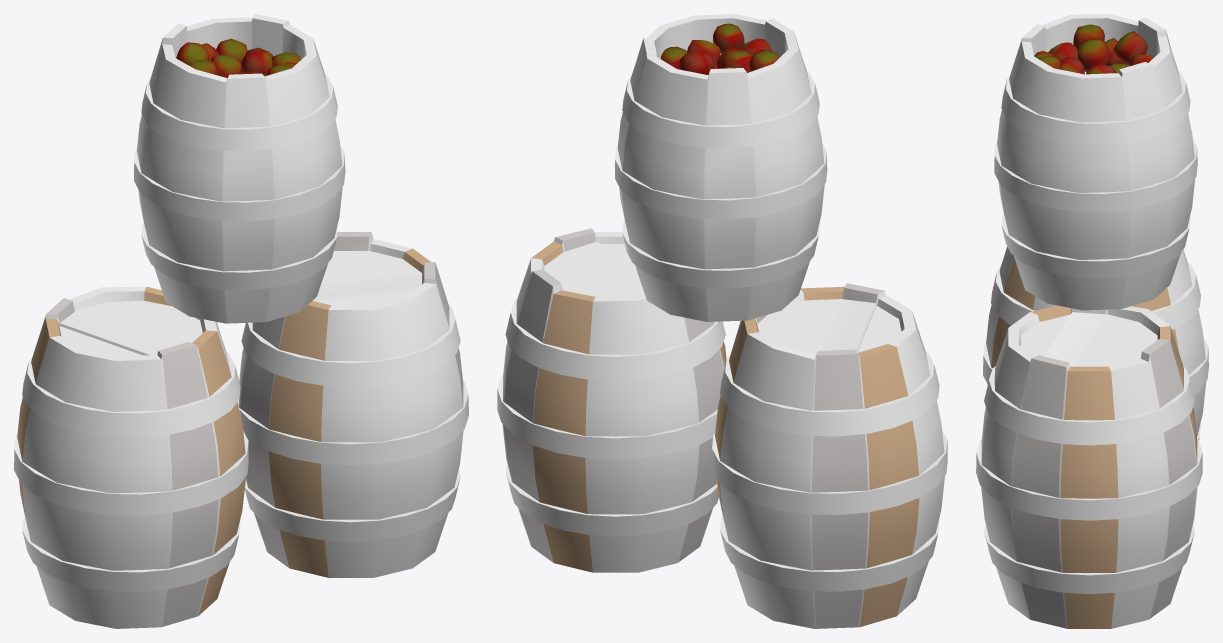
File: barrel_pyramid.glb
3 renders of one model, left to right at view 1: azimuth 30°, elevation 25°; view 2: azimuth 150°, elevation 25°; view 3: azimuth 270°, elevation 25°, orthographic. The views are drawn at different scales.
Parts seen in each view (by area): view 1: Cylinder (×2), Cylinder054, Cylinder_1 (×2), Cylinder054_1, Cylinder054_2; view 2: Cylinder (×2), Cylinder054, Cylinder_1 (×2), Cylinder054_1, Cylinder054_2; view 3: Cylinder (×2), Cylinder054, Cylinder_1 (×2), Cylinder054_1, Cylinder054_2.
Boxes of the visible parts, x1,y1,x2,y2 form: Cylinder (×2): (17,232,463,628); Cylinder054: (136,14,342,323); Cylinder_1 (×2): (14,305,468,591); Cylinder054_1: (134,74,345,290); Cylinder054_2: (176,38,300,77); Cylinder (×2): (502,228,944,628); Cylinder054: (617,14,824,321); Cylinder_1 (×2): (497,298,947,591); Cylinder054_1: (615,71,827,288); Cylinder054_2: (660,23,779,75); Cylinder (×2): (981,246,1206,628); Cylinder054: (997,14,1195,310); Cylinder_1 (×2): (976,262,1208,594); Cylinder054_1: (994,71,1197,278); Cylinder054_2: (1034,24,1154,74).
Bounding box in the file's own units: 1.44 × 1.71 × 0.7167.
